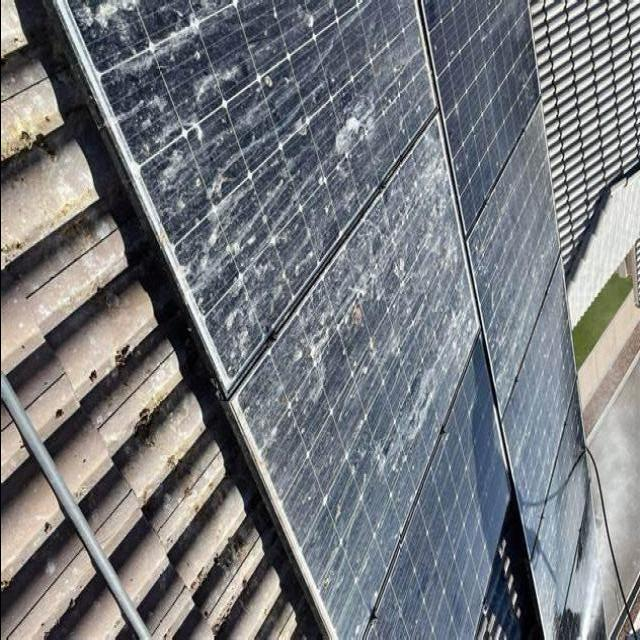soiled: (78, 8, 477, 640), (481, 11, 594, 640)
